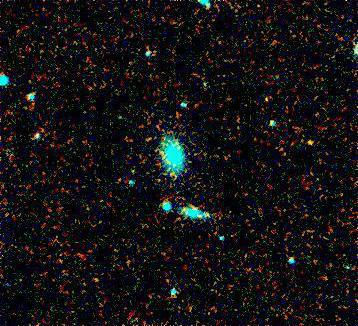star: (295, 127, 325, 157)
